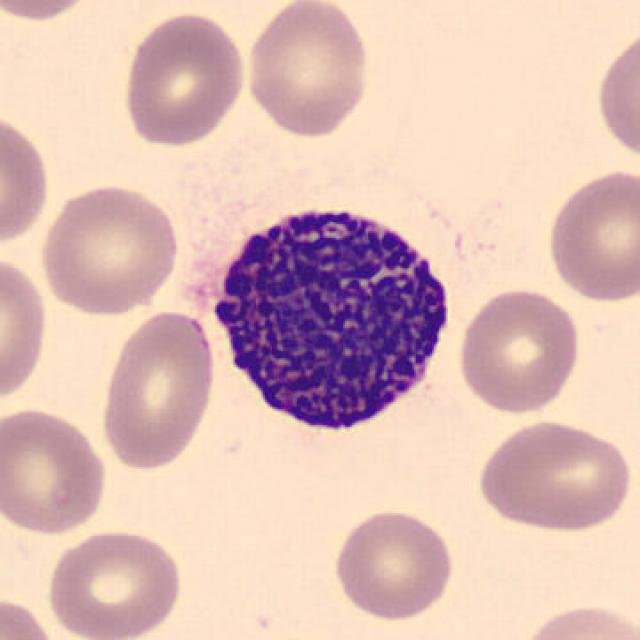Basophil: (192, 187, 462, 448)
RBC: (96, 307, 219, 472), (36, 180, 183, 317), (473, 414, 635, 536), (117, 9, 251, 150), (242, 0, 373, 141), (455, 284, 583, 416), (43, 525, 185, 640), (329, 504, 459, 624), (0, 403, 110, 538), (542, 164, 638, 305), (0, 249, 50, 409), (0, 106, 53, 254), (592, 23, 638, 166), (516, 599, 638, 640), (0, 592, 62, 640), (0, 0, 103, 23)
